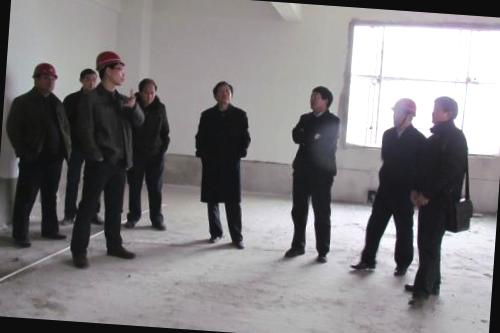no_helmet: (428, 92, 462, 130), (305, 83, 336, 116), (208, 78, 236, 110), (135, 74, 160, 106), (75, 65, 99, 91)
